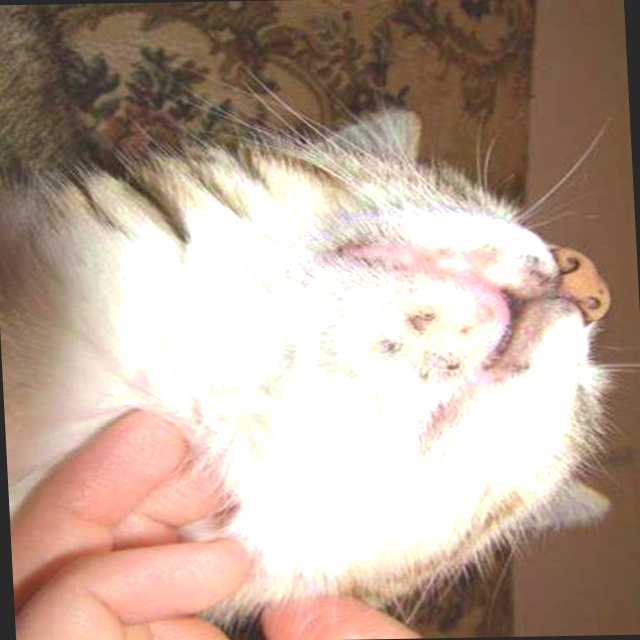acne: (376, 310, 459, 391)
